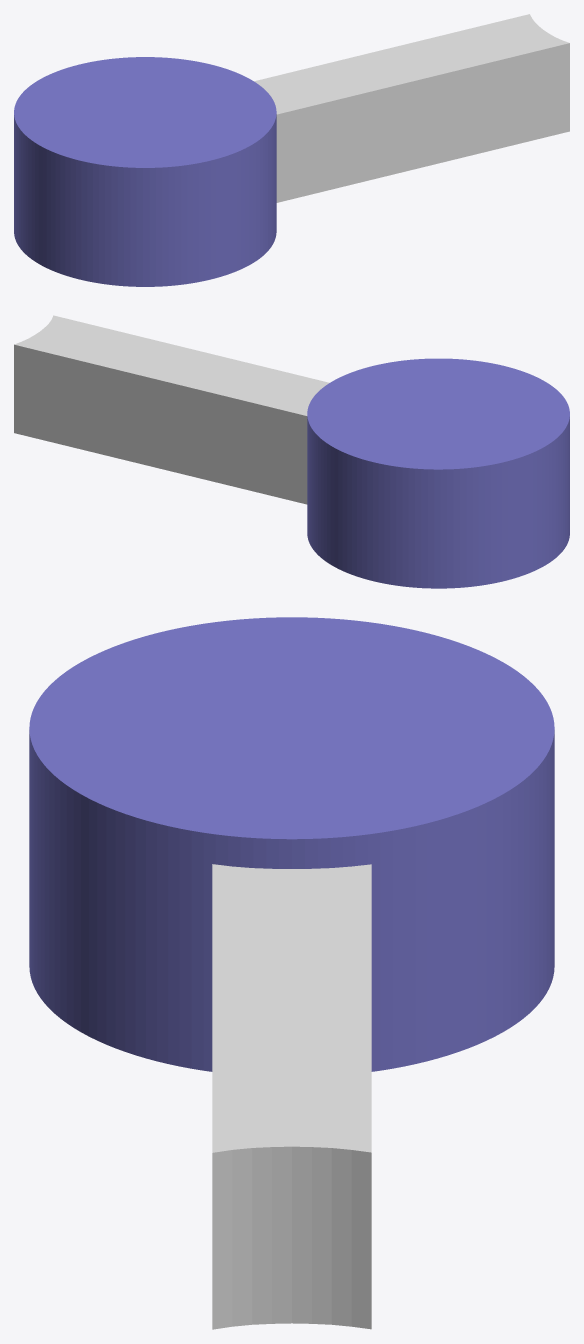
3 renders of one model, top to bottom at view 1: azimuth 30°, elevation 25°; view 2: azimuth 150°, elevation 25°; view 3: azimuth 270°, elevation 25°, orthographic. The views are drawn at different scales.
Parts seen in each view (by area): view 1: Link3; view 2: Link3; view 3: Link3.
Boxes of the visible parts, x1=… form: Link3: x1=14, y1=14, x2=569, y2=286; Link3: x1=14, y1=315, x2=569, y2=588; Link3: x1=29, y1=617, x2=554, y2=1329.
Size of the model in its own units: 0.4466 by 0.1958 by 0.0979.
